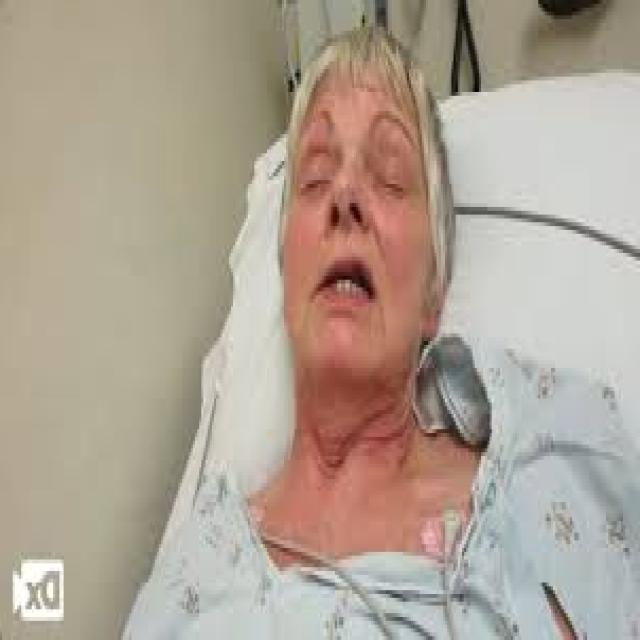stroke_face: (264, 29, 436, 408)
